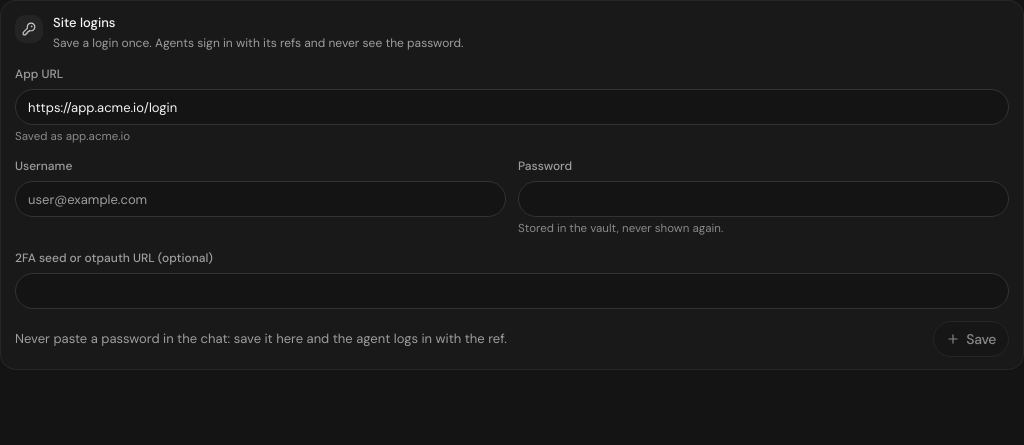
Test: SiteLoginsPanel (embedded) › saves the marketing product login through the vault API, prefilled from the desk
The image size is (1024, 445).
Expected: the field with test id "site-url" holds "https://app.acme.io/login", [15, 89, 1009, 125]
Expected: the text "Saved as app.acme.io" is shown, [15, 129, 130, 144]
Type "demo@acme.io" into the field with test id "site-username" at [260, 199], box [15, 181, 506, 217]
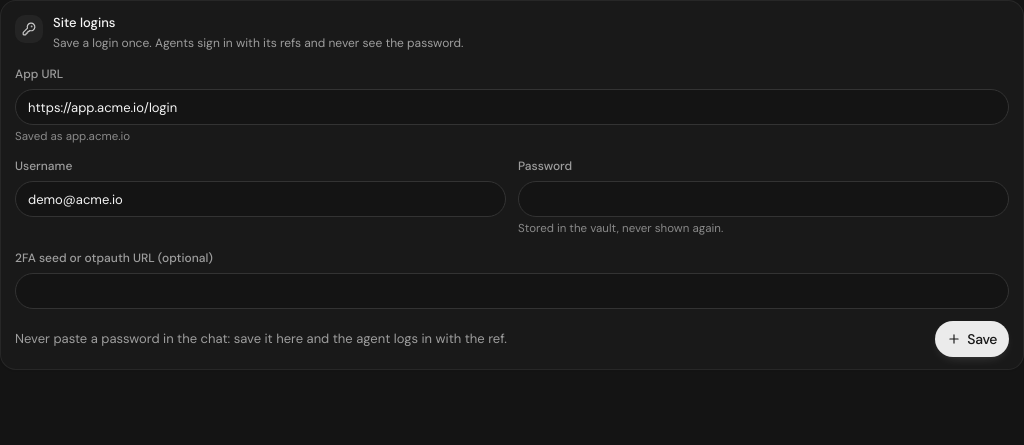
Type "Pa55-word-Never-Shown" into the password field with test id "site-password" at [764, 199], box [518, 181, 1009, 217]
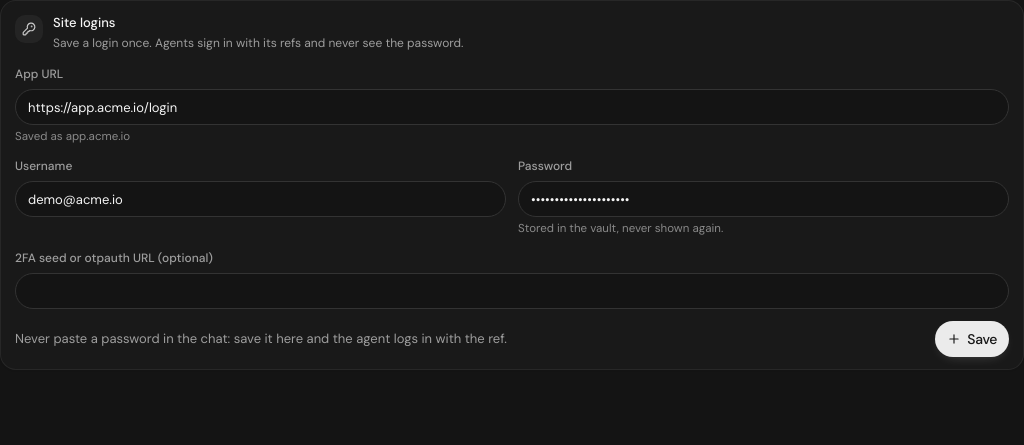
Click the button with test id "site-save" at [972, 339], box [935, 321, 1009, 357]
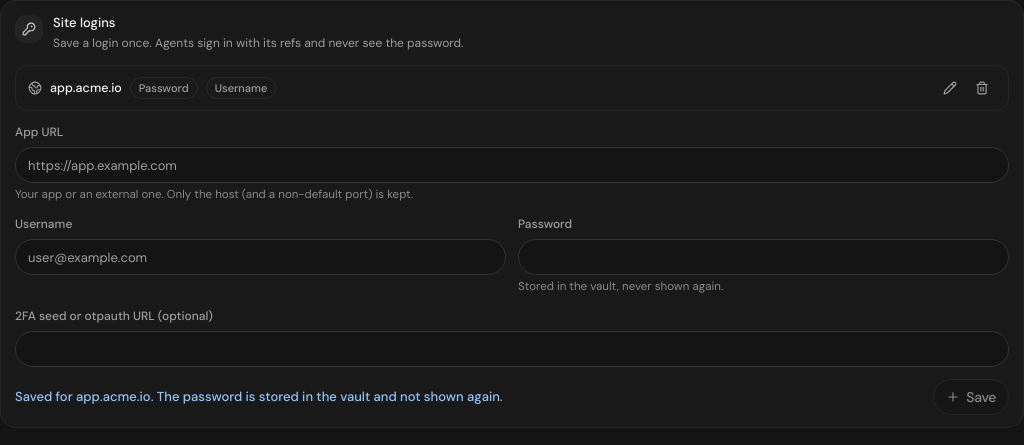
Expected: the text "app.acme.io" is shown, [50, 79, 122, 97]
